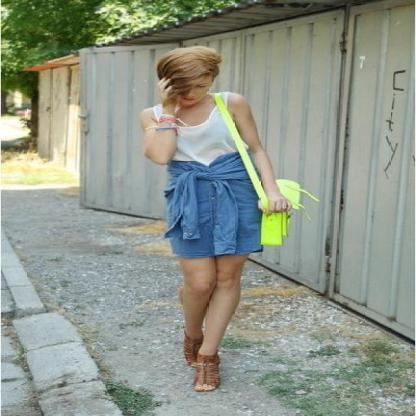bag: (231, 129, 307, 245)
shirt: (176, 89, 241, 165)
shoe: (170, 346, 226, 402)
skirt: (164, 151, 262, 258)
